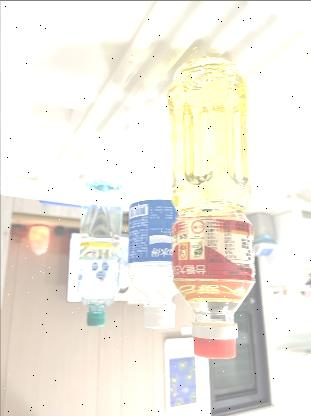Plastic Bottle: (167, 56, 255, 358), (126, 105, 177, 328), (76, 178, 122, 328)
